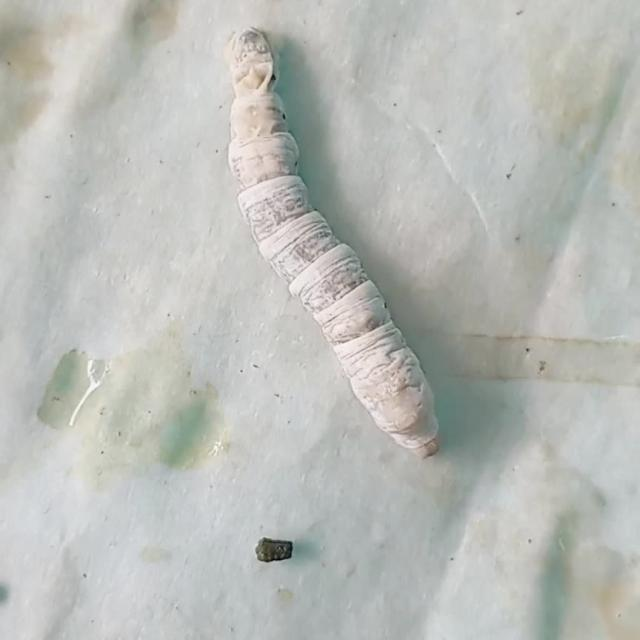Grasserie: (193, 21, 516, 478)
